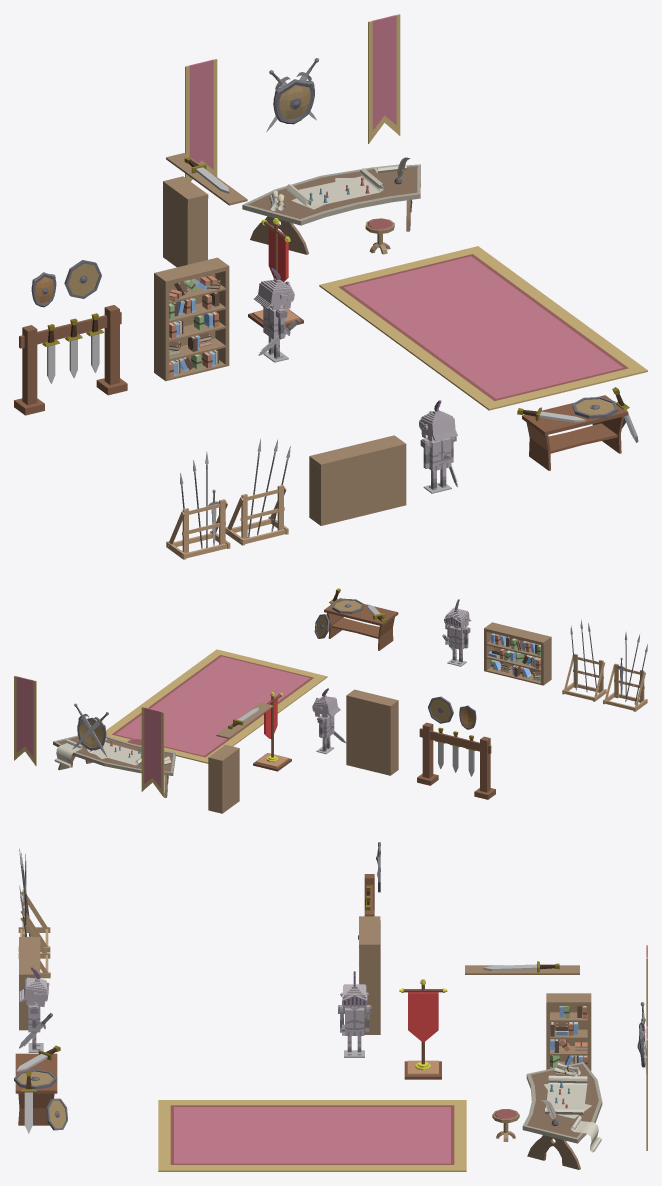
File: Room_Commander_Assets.fbx
3 views of the same model, one above another, from view 1: azimuth 30°, elevation 25°; view 2: azimuth 150°, elevation 25°; view 3: azimuth 270°, elevation 25° (orthographic). The views are drawn at different scales.
Visible parts, largest first — view 1: floor_mat, BG_Book_Shelf_Connect (×2), polySurface13, wall_banner_2, cupboard, table_wood, Table_Geo, wall_banner_1, scrolls, head (×2), table_border, flag_banner (+5 smaller); view 2: floor_mat, BG_Book_Shelf_Connect (×2), polySurface13, cupboard, wall_banner_1, wall_banner_2, Table_Geo, scrolls, flag_banner, head (×2), table_wood, table_border (+5 smaller); view 3: floor_mat, BG_Book_Shelf_Connect (×2), table_wood, flag_banner, cupboard, scrolls, Table_Geo, head (×2), table_border, Shelf_BG_02_Geo, torso, Shield_02_Geo (+2 smaller).
Boxes of the visible parts, bbox=[...] form: floor_mat: bbox=[319, 246, 647, 410]; BG_Book_Shelf_Connect (×2): bbox=[154, 257, 406, 525]; polySurface13: bbox=[14, 305, 127, 415]; wall_banner_2: bbox=[368, 14, 400, 143]; cupboard: bbox=[163, 176, 208, 267]; table_wood: bbox=[248, 166, 417, 254]; Table_Geo: bbox=[522, 395, 628, 470]; wall_banner_1: bbox=[185, 59, 217, 181]; scrolls: bbox=[286, 164, 406, 209]; head (×2): bbox=[254, 268, 457, 441]; table_border: bbox=[242, 164, 420, 225]; flag_banner: bbox=[248, 218, 303, 327]; floor_mat: bbox=[106, 649, 327, 763]; BG_Book_Shelf_Connect (×2): bbox=[346, 622, 551, 775]; polySurface13: bbox=[417, 722, 495, 799]; cupboard: bbox=[208, 744, 239, 813]; wall_banner_1: bbox=[141, 707, 164, 797]; wall_banner_2: bbox=[14, 675, 36, 765]; Table_Geo: bbox=[324, 598, 398, 650]; scrolls: bbox=[54, 738, 141, 767]; flag_banner: bbox=[253, 692, 291, 771]; head (×2): bbox=[312, 599, 471, 717]; table_wood: bbox=[57, 737, 172, 797]; table_border: bbox=[53, 735, 175, 775]; floor_mat: bbox=[158, 1100, 466, 1171]; BG_Book_Shelf_Connect (×2): bbox=[19, 916, 380, 1034]; table_wood: bbox=[527, 1064, 598, 1169]; flag_banner: bbox=[399, 979, 447, 1079]; cupboard: bbox=[546, 993, 591, 1070]; scrolls: bbox=[543, 1075, 601, 1152]; Table_Geo: bbox=[15, 1053, 57, 1125]; head (×2): bbox=[19, 967, 369, 1011]; table_border: bbox=[522, 1062, 602, 1143]; Shelf_BG_02_Geo: bbox=[465, 965, 579, 974]; torso: bbox=[338, 1005, 371, 1035]; Shield_02_Geo: bbox=[14, 1069, 56, 1089].
Bounding box in the file's own units: 966 × 254 × 1035.
